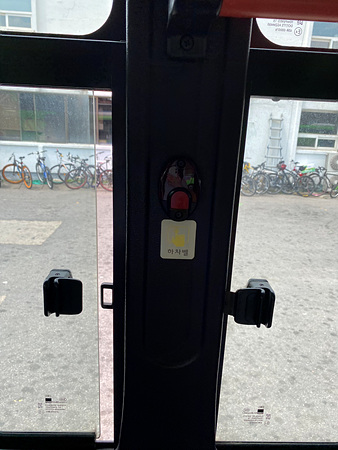bell: (156, 161, 202, 220)
